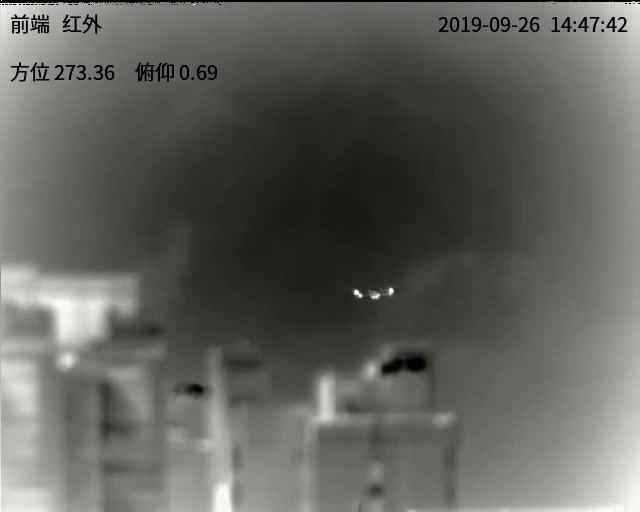DRONE: (351, 285, 395, 300)
